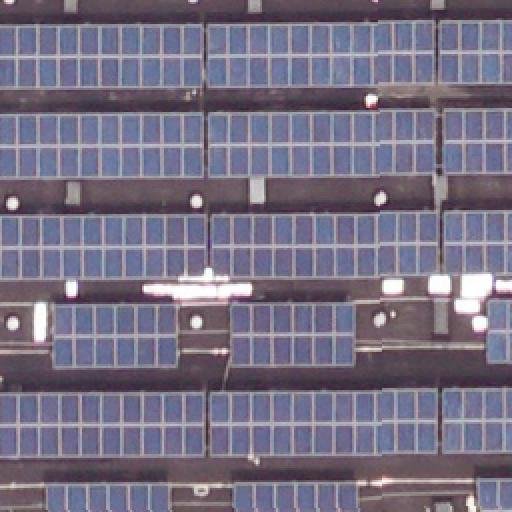solar-panel: (209, 112, 439, 180), (209, 391, 439, 457), (208, 23, 436, 89), (0, 114, 204, 182), (210, 214, 438, 274), (1, 392, 207, 456), (1, 216, 207, 280), (0, 29, 200, 91), (52, 302, 180, 370), (229, 302, 355, 366), (441, 109, 511, 179), (440, 388, 512, 452), (440, 21, 512, 83), (441, 213, 511, 275), (234, 481, 358, 511), (47, 484, 169, 512), (486, 298, 512, 362), (480, 480, 512, 512)
